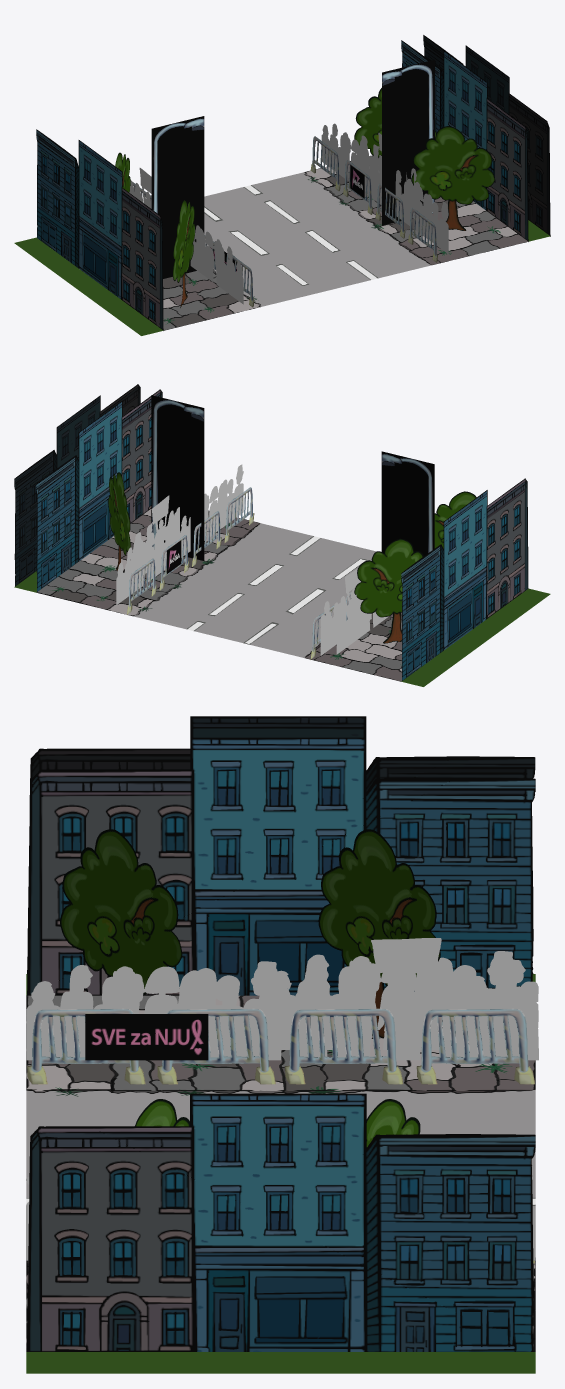
3 views of the same model, one above another, from view 1: azimuth 30°, elevation 25°; view 2: azimuth 150°, elevation 25°; view 3: azimuth 270°, elevation 25° (orthographic). The views are drawn at different scales.
Parts seen in each view (by area): view 1: Road.001, Buildings-Light-L, Buildings-Light-R, Lamp-Post-R, Lamp-Post-L, Tree.003, Buildings-Dark-R, crowd.002, crowd, crowd.001, Tree, Tree.002 (+5 smaller); view 2: Road.001, Buildings-Light-L, Buildings-Light-R, Lamp-Post-R, Buildings-Dark-R, Lamp-Post-L, Tree.001, crowd.001, crowd, crowd.003, Tree.002, crowd2 (+6 smaller); view 3: Buildings-Light-R, Buildings-Light-L, Road.001, crowd2, Tree, crowd.002, Buildings-Dark-L, Tree.001, Logo_sznj, crowd.003, Fence-L.003, Fence-L.002 (+4 smaller).
Boxes of the visible parts, box(x1,y1,x2,y2) form: Road.001: box(14, 155, 550, 335); Buildings-Light-L: box(36, 129, 163, 330); Buildings-Light-R: box(401, 40, 528, 241); Lamp-Post-R: box(382, 59, 434, 225); Lamp-Post-L: box(151, 116, 204, 278); Tree.003: box(411, 126, 494, 230); Buildings-Dark-R: box(423, 35, 550, 236); crowd.002: box(190, 225, 243, 304); crowd: box(395, 170, 448, 254); crowd.001: box(321, 123, 381, 204); Tree: box(173, 200, 195, 307); Tree.002: box(354, 88, 436, 157); Road.001: box(14, 509, 550, 686); Buildings-Light-L: box(401, 478, 528, 680); Buildings-Light-R: box(36, 389, 162, 591); Lamp-Post-R: box(151, 395, 204, 560); Buildings-Dark-R: box(14, 384, 140, 586); Lamp-Post-L: box(381, 451, 434, 555); Tree.001: box(354, 538, 423, 643); crowd.001: box(116, 511, 179, 605); crowd: box(180, 464, 243, 557); crowd.003: box(336, 594, 388, 654); Tree.002: box(108, 472, 130, 571); crowd2: box(320, 568, 371, 655); Buildings-Light-R: box(26, 1093, 535, 1351); Buildings-Light-L: box(26, 737, 535, 995); Road.001: box(26, 974, 535, 1373); crowd2: box(284, 938, 538, 1060); Tree: box(60, 829, 182, 994); crowd.002: box(26, 961, 281, 1060); Buildings-Dark-L: box(27, 716, 535, 973); Tree.001: box(318, 829, 440, 1038); Logo_sznj: box(85, 1014, 208, 1060); crowd.003: box(268, 951, 513, 1049); Fence-L.003: box(416, 1008, 534, 1084); Fence-L.002: box(285, 1008, 403, 1084).
Bounding box in the file's own units: 1115 × 400 × 604.
Materials: 15 (12 with a texture image).
